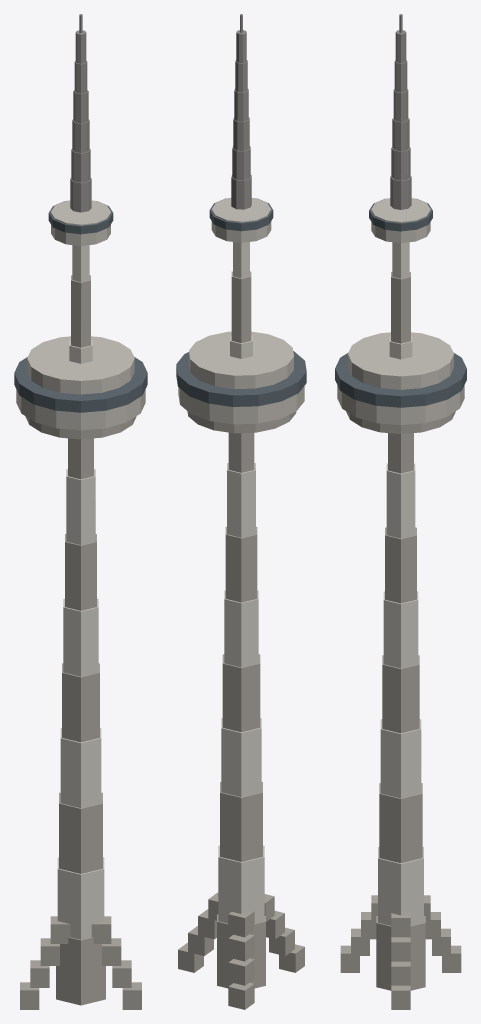
Rendered from cn-tower.glb.
3 views of the same model, side by side, from view 1: azimuth 90°, elevation 25°; view 2: azimuth 150°, elevation 25°; view 3: azimuth 270°, elevation 25° (orthographic).
Parts seen in each view (by area): view 1: cn-tower; view 2: cn-tower; view 3: cn-tower.
Part boxes in pixels (x1,y1,x2,y2): cn-tower: [14, 14, 147, 1009]; cn-tower: [176, 14, 306, 1009]; cn-tower: [335, 14, 466, 1009].
Size of the model in its own units: 15.07 by 120 by 14.84.
1 material, 1 textured.
